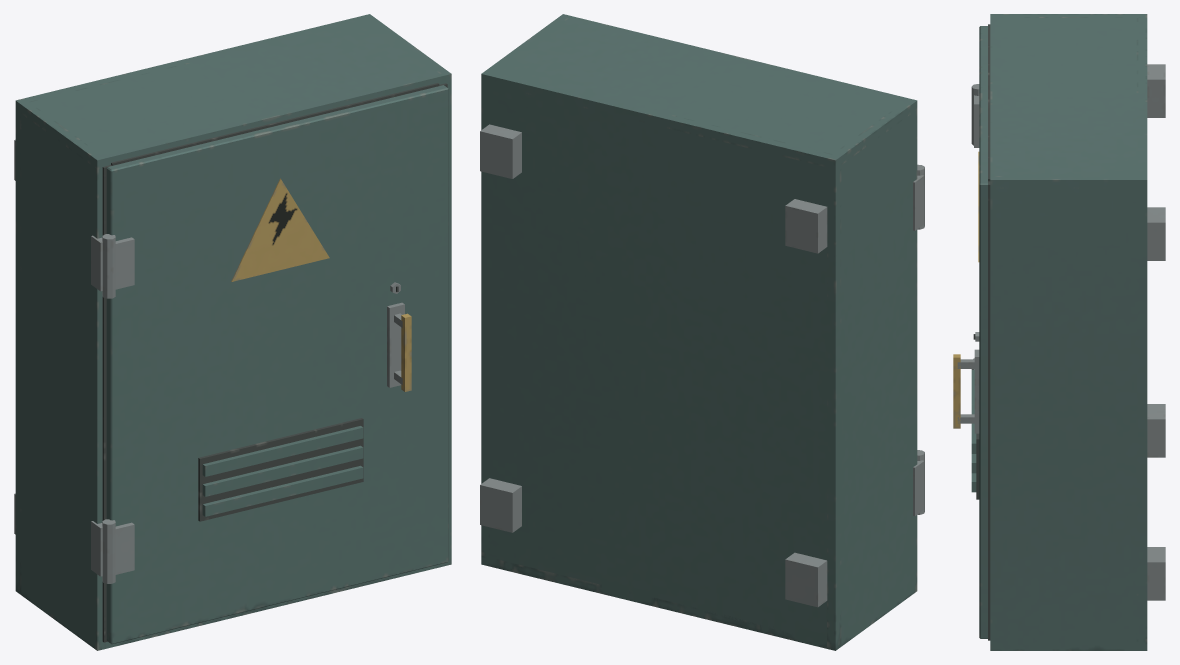
Rendered from bunker_breaker_panel_closed.glb.
The picture shows the model from 3 angles, left to right: view 1: azimuth 30°, elevation 25°; view 2: azimuth 150°, elevation 25°; view 3: azimuth 270°, elevation 25°; orthographic projection. The views are drawn at different scales.
Parts seen in each view (by area): view 1: BreakerPanel; view 2: BreakerPanel; view 3: BreakerPanel.
Part boxes in pixels (box(x1,y1,x2,y2)): BreakerPanel: box(14, 14, 451, 650); BreakerPanel: box(480, 14, 924, 650); BreakerPanel: box(953, 14, 1165, 650).
Size of what is drawn, in the model's own units: 0.6535 by 0.89 by 0.351.
1 material, 1 textured.
